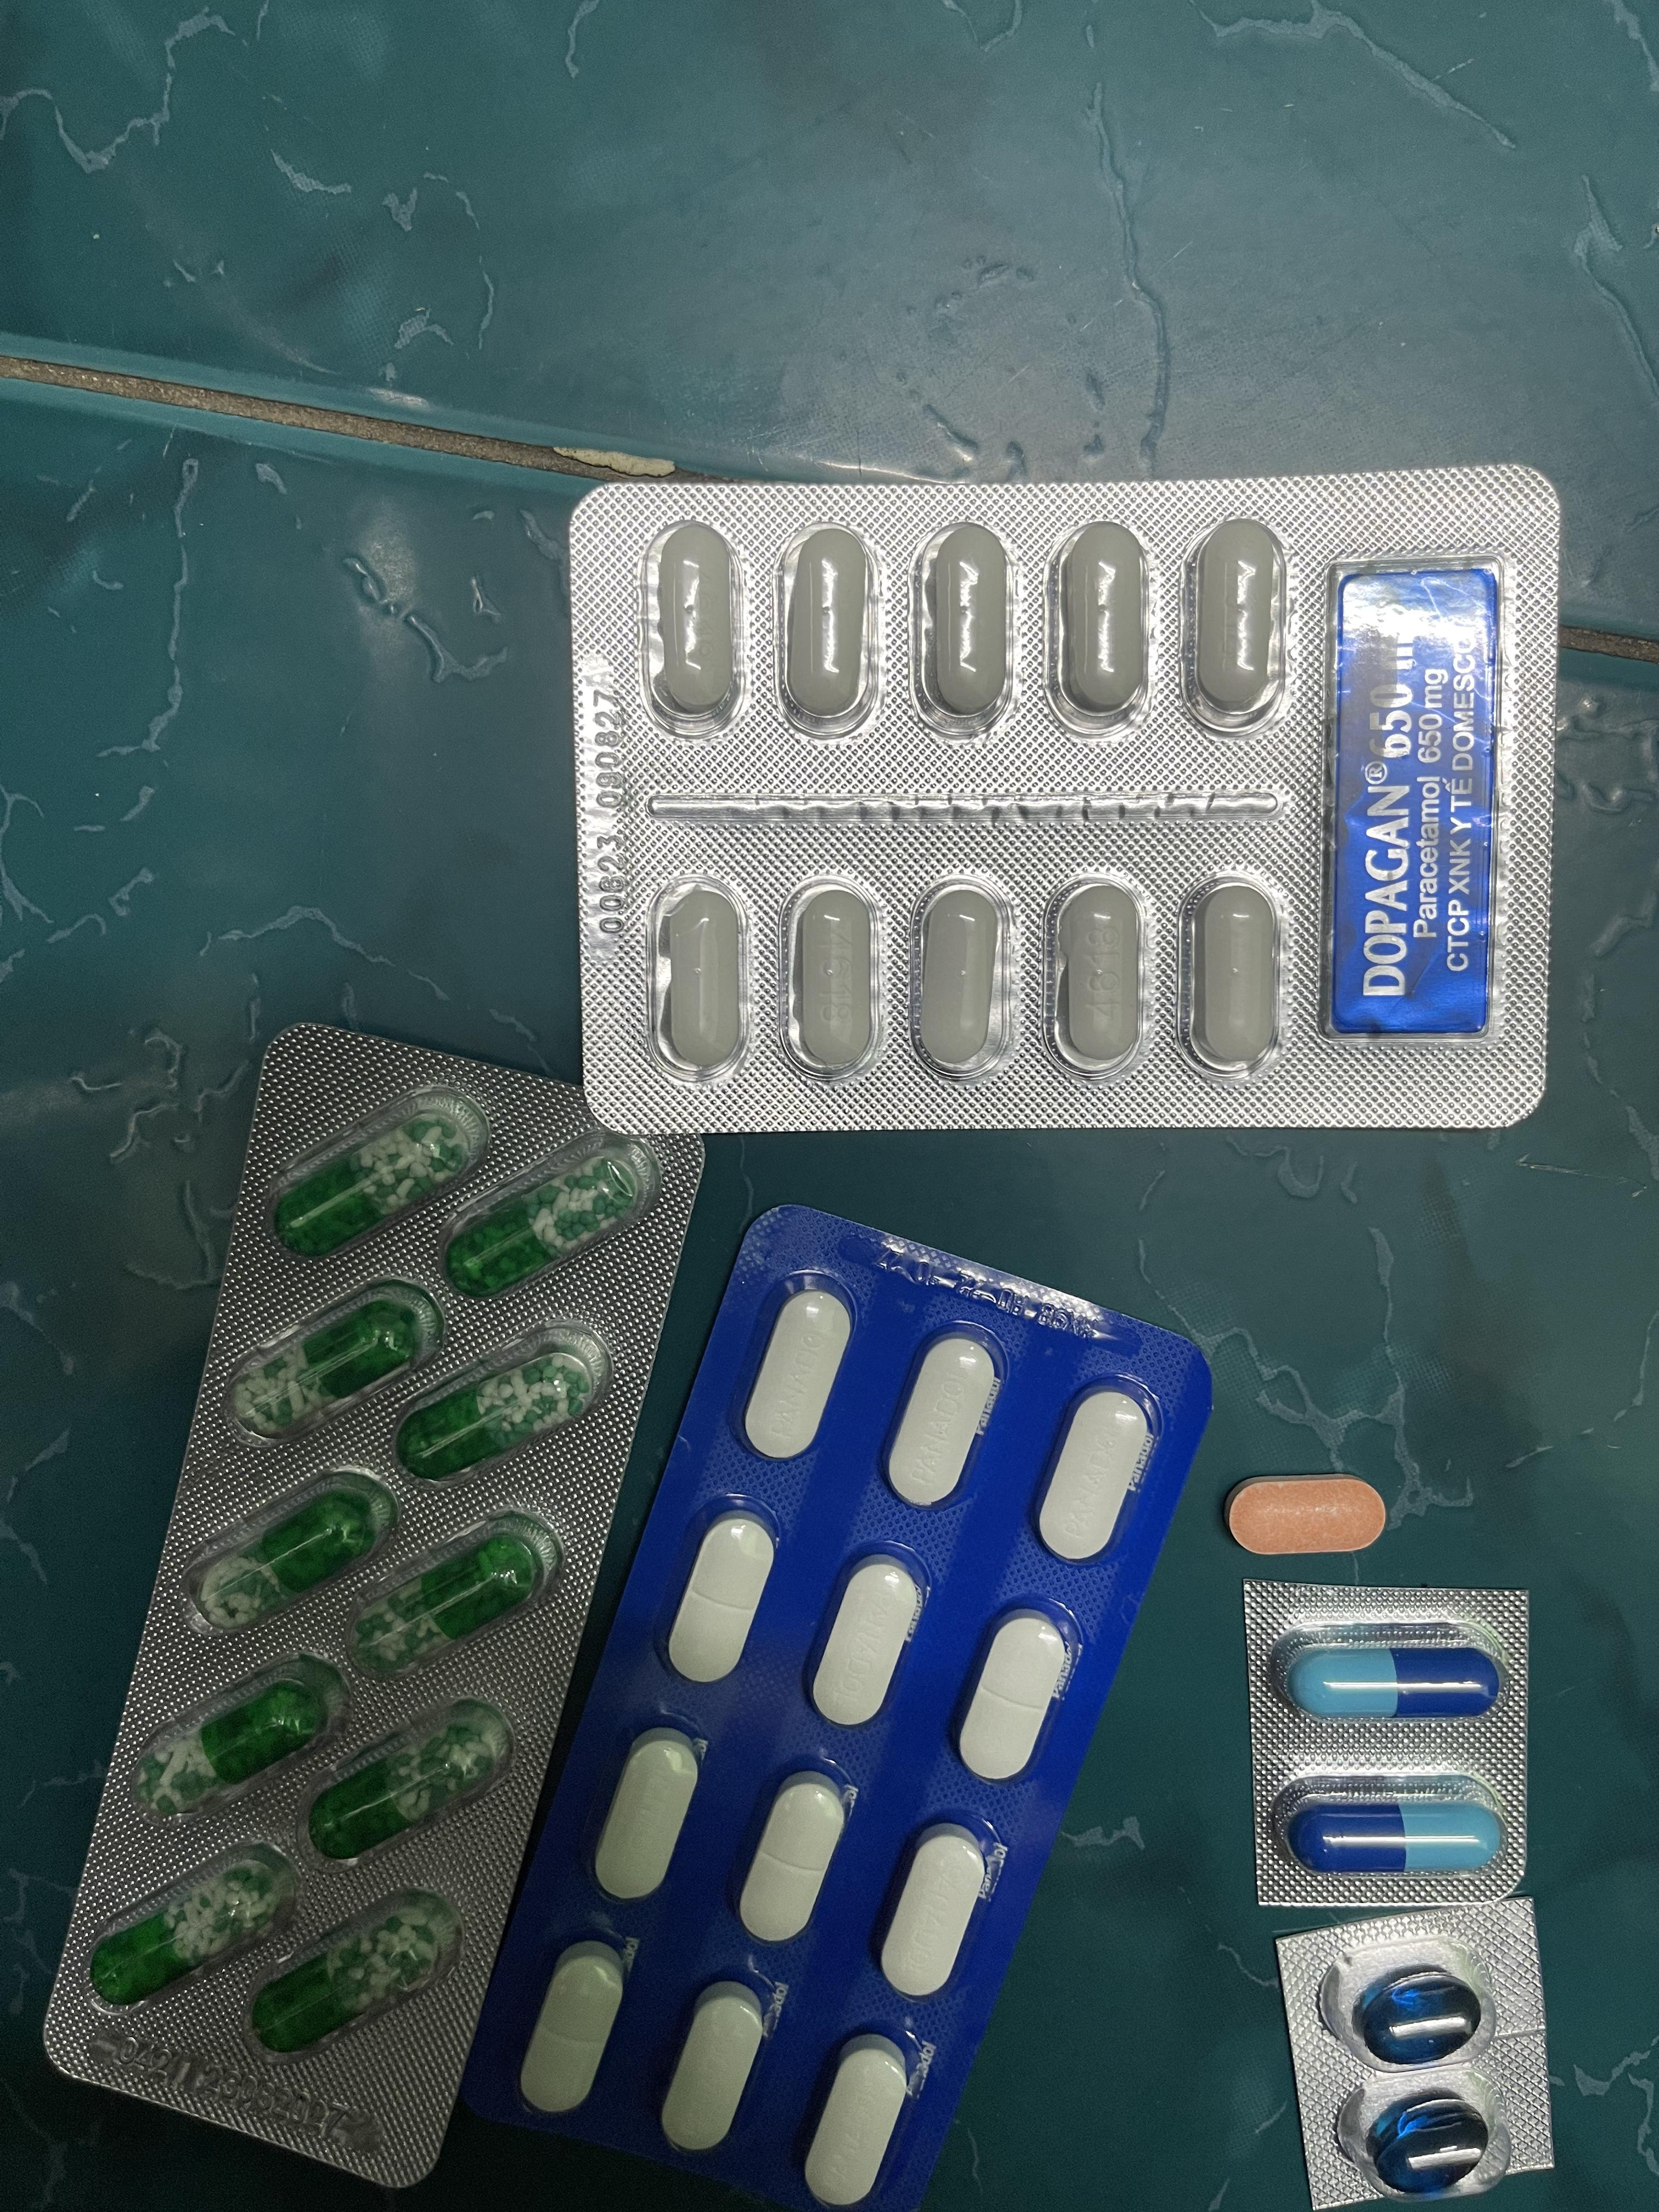Lincomyxin_500mg: (1354, 1965, 1486, 2064), (1368, 2090, 1493, 2191)
Loratadine_10mg: (1225, 1475, 1385, 1555)
Paracetamol_350mg: (884, 1332, 1004, 1512), (1035, 1385, 1154, 1564), (809, 1554, 925, 1731), (955, 1611, 1070, 1785), (880, 1824, 993, 2000), (742, 1285, 854, 1463), (667, 1512, 775, 1689), (737, 1770, 847, 1944), (803, 2038, 911, 2210), (594, 1731, 701, 1905), (662, 1984, 769, 2158), (519, 1946, 626, 2118)
Paracetamol_500mg: (1053, 521, 1147, 728), (647, 524, 739, 733), (918, 523, 1011, 730), (786, 517, 875, 721), (1197, 514, 1284, 709), (657, 887, 742, 1073), (915, 885, 1000, 1069), (1060, 881, 1145, 1061), (1197, 885, 1276, 1068), (795, 888, 873, 1069)
Paracetamol_650mg: (308, 1696, 512, 1858), (253, 1895, 460, 2050), (190, 1479, 392, 1632), (92, 1855, 295, 2006), (354, 1526, 545, 1670), (277, 1116, 474, 1254), (232, 1305, 429, 1442), (134, 1681, 333, 1817), (453, 1157, 640, 1292), (401, 1346, 594, 1477)
pill: (1286, 1803, 1499, 1876), (1284, 1649, 1497, 1719)
